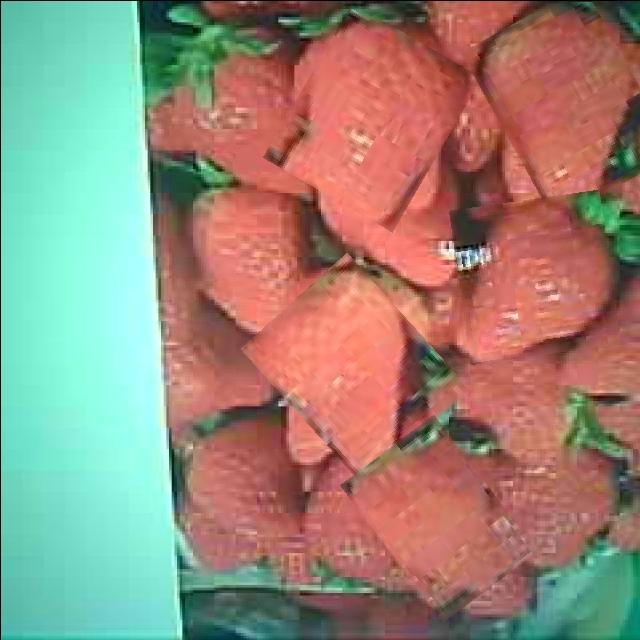strawberry: (260, 264, 448, 472), (279, 15, 463, 218), (480, 0, 640, 210), (358, 422, 516, 612), (453, 194, 615, 358)
